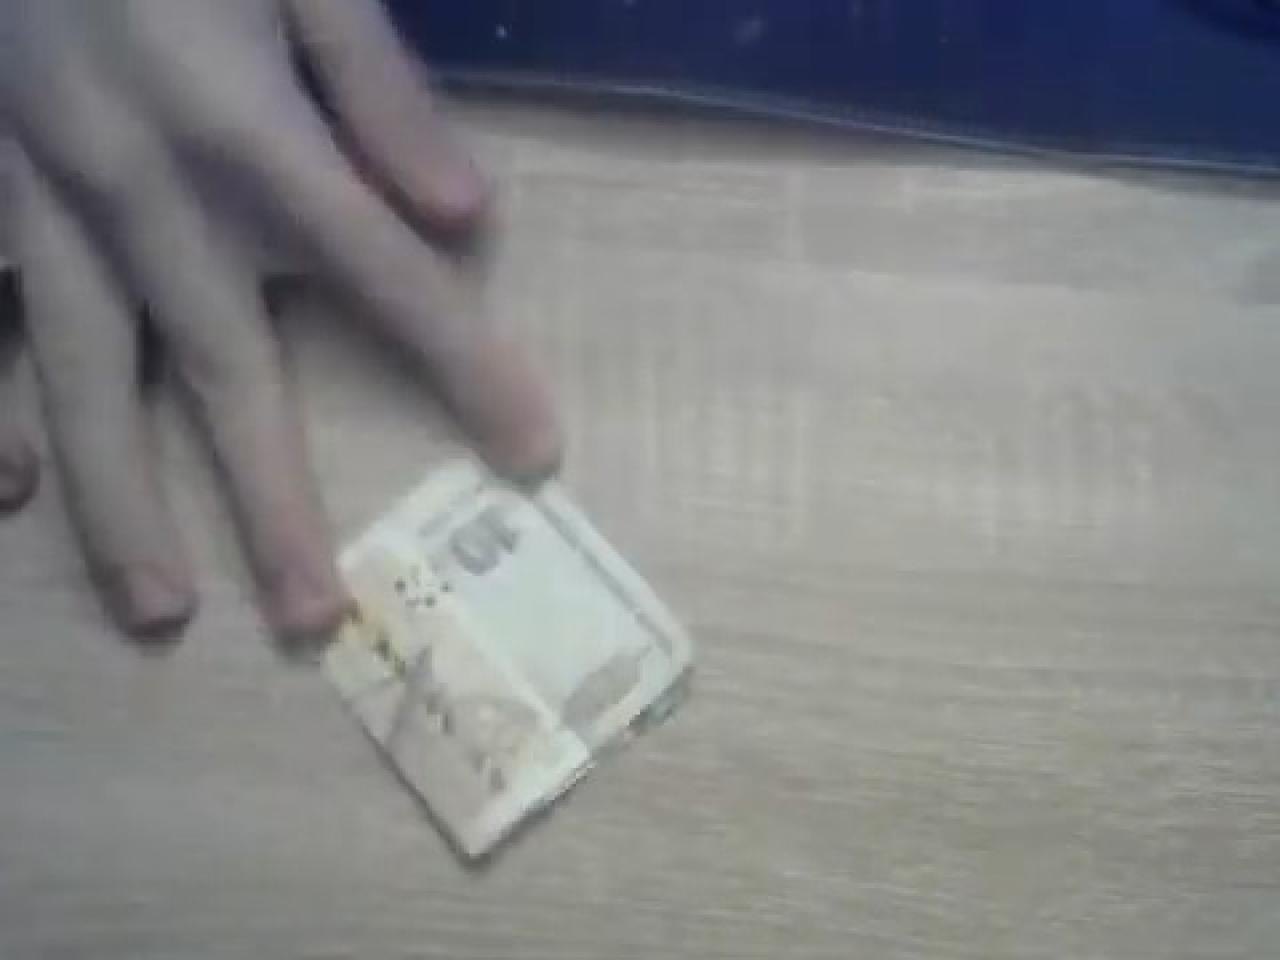10leva: (317, 451, 695, 864)
